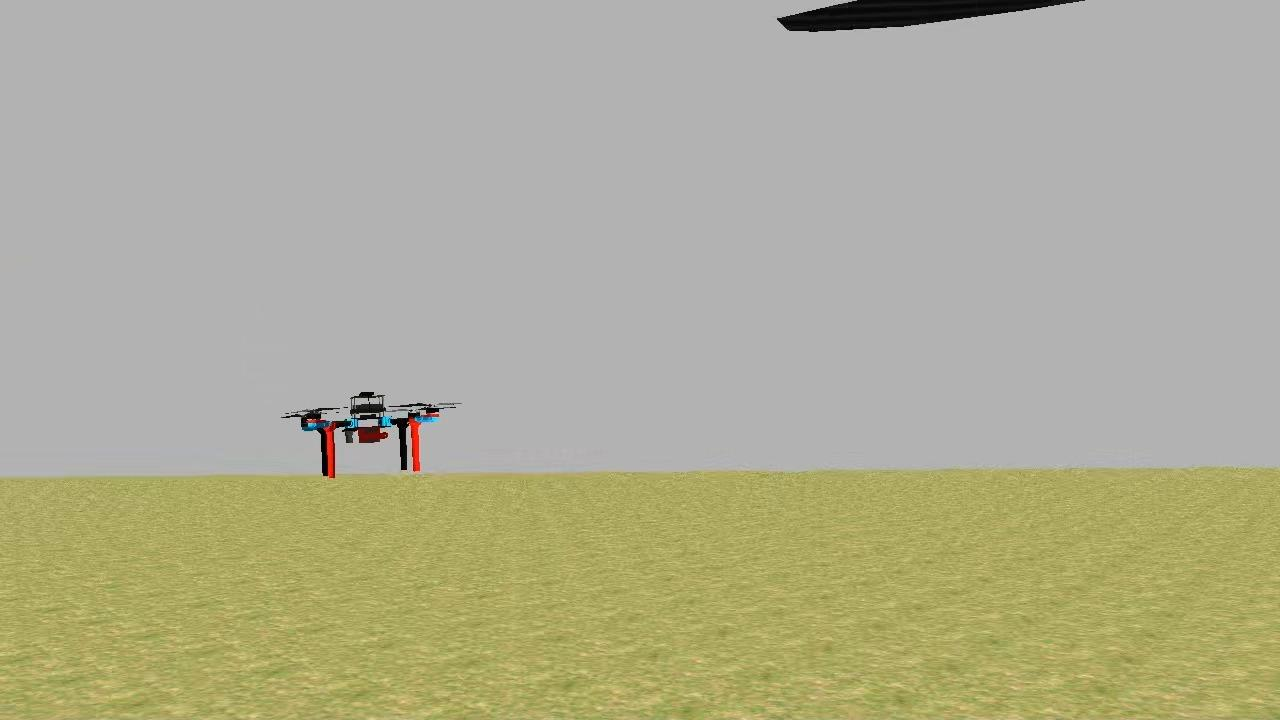UAV: (286, 384, 450, 484)
